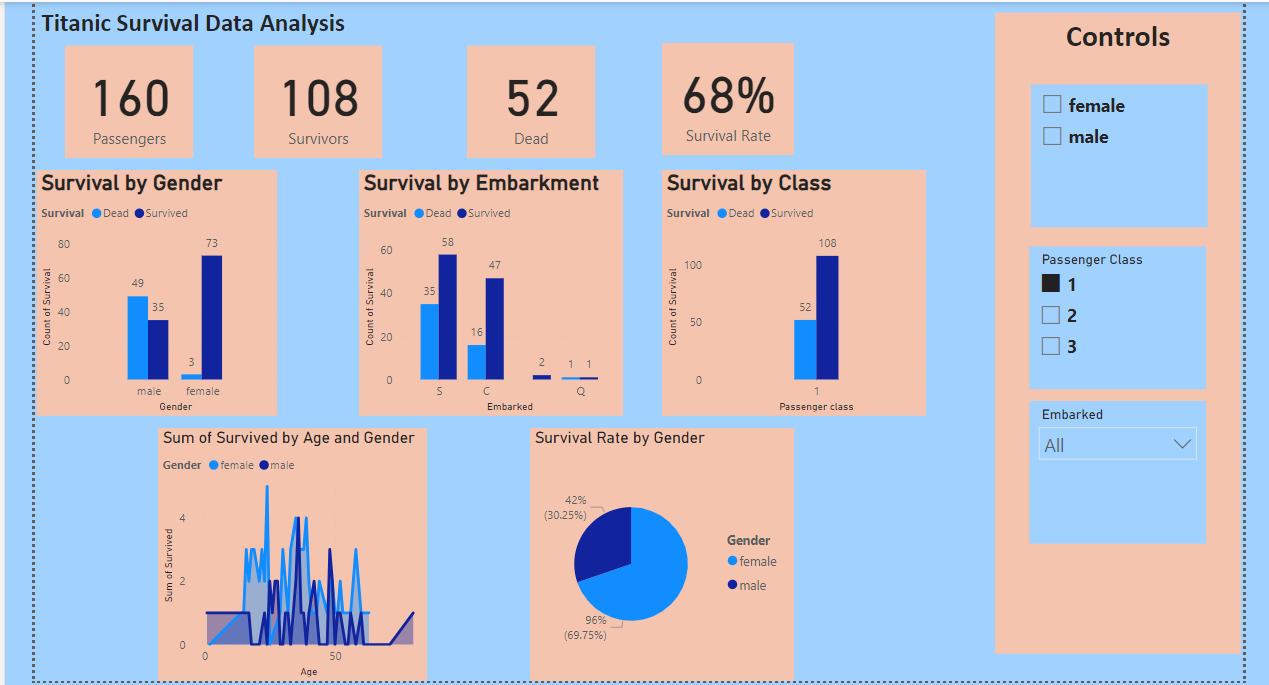

This screenshot's page, from the dashboard's own definition file:
{"tool":"powerbi","page":{"name":"Page 1","canvas":[1280,720],"ordinal":0},"visuals":[{"type":"card","fields":{"Values":["Titanic-Dataset.Passengers"]},"box":[32.1,45.4,136.1,119.1],"z":0},{"type":"card","fields":{"Values":["Titanic-Dataset.Survivors"]},"box":[232.4,45.4,136.1,119.1],"z":1000},{"type":"card","fields":{"Values":["Titanic-Dataset.Dead"]},"box":[457.3,45.4,136.1,119.1],"z":2000},{"type":"card","fields":{"Values":["Titanic-Dataset.Survival Rate"]},"box":[665.2,43.5,139.8,119.1],"z":3000},{"type":"textbox","box":[1018.6,11.3,260.8,680.3],"z":4000},{"type":"slicer","fields":{"Values":["Titanic-Dataset.Sex"]},"box":[1056.4,86.9,187.1,151.2],"z":5000},{"type":"slicer","fields":{"Values":["Titanic-Dataset.Pclass"]},"box":[1054.5,258.9,187.1,151.2],"z":6000},{"type":"slicer","fields":{"Values":["Titanic-Dataset.Embarked"]},"box":[1054.5,423.3,187.1,151.2],"z":7000},{"type":"clusteredColumnChart","title":" Survival by Gender","fields":{"Category":["Titanic-Dataset.Sex"],"Series":["Titanic-Dataset.Survival"],"Y":["CountNonNull(Titanic-Dataset.Survival)"]},"box":[1.9,177.6,255.1,260.8],"z":8000},{"type":"clusteredColumnChart","title":" Survival by Embarkment","fields":{"Category":["Titanic-Dataset.Embarked"],"Series":["Titanic-Dataset.Survival"],"Y":["CountNonNull(Titanic-Dataset.Survival)"]},"box":[343.9,177.6,279.7,260.8],"z":9000},{"type":"clusteredColumnChart","title":" Survival by Class","fields":{"Series":["Titanic-Dataset.Survival"],"Y":["CountNonNull(Titanic-Dataset.Survival)"],"Category":["Titanic-Dataset.Pclass"]},"box":[665.2,177.6,279.7,260.8],"z":10000},{"type":"areaChart","fields":{"Category":["Titanic-Dataset.Age"],"Y":["Sum(Titanic-Dataset.Survived)"],"Series":["Titanic-Dataset.Sex"]},"box":[130.4,451.7,285.4,268.3],"z":11000},{"type":"pieChart","fields":{"Category":["Titanic-Dataset.Sex"],"Y":["Titanic-Dataset.Survival Rate"]},"box":[525.4,451.7,279.7,268.3],"z":12000},{"type":"textbox","box":[1.9,0,927.9,43.5],"z":13000}]}

Visuals, with their boxes on the page's 1280x720 design canvas (x1, y1, x2, y2). These are canvas units, not pixel positions in the 1269x685 screenshot, which may show the page scaled, cropped or inside an application window:
card - Titanic-Dataset.Passengers: left=32, top=45, right=168, bottom=164
card - Titanic-Dataset.Survivors: left=232, top=45, right=368, bottom=164
card - Titanic-Dataset.Dead: left=457, top=45, right=593, bottom=164
card - Titanic-Dataset.Survival Rate: left=665, top=44, right=805, bottom=163
textbox: left=1019, top=11, right=1279, bottom=692
slicer - Titanic-Dataset.Sex: left=1056, top=87, right=1244, bottom=238
slicer - Titanic-Dataset.Pclass: left=1054, top=259, right=1242, bottom=410
slicer - Titanic-Dataset.Embarked: left=1054, top=423, right=1242, bottom=574
" Survival by Gender" clusteredColumnChart: left=2, top=178, right=257, bottom=438
" Survival by Embarkment" clusteredColumnChart: left=344, top=178, right=624, bottom=438
" Survival by Class" clusteredColumnChart: left=665, top=178, right=945, bottom=438
areaChart - Titanic-Dataset.Age x Sum(Titanic-Dataset.Survived): left=130, top=452, right=416, bottom=720
pieChart - Titanic-Dataset.Sex x Titanic-Dataset.Survival Rate: left=525, top=452, right=805, bottom=720
textbox: left=2, top=0, right=930, bottom=44
